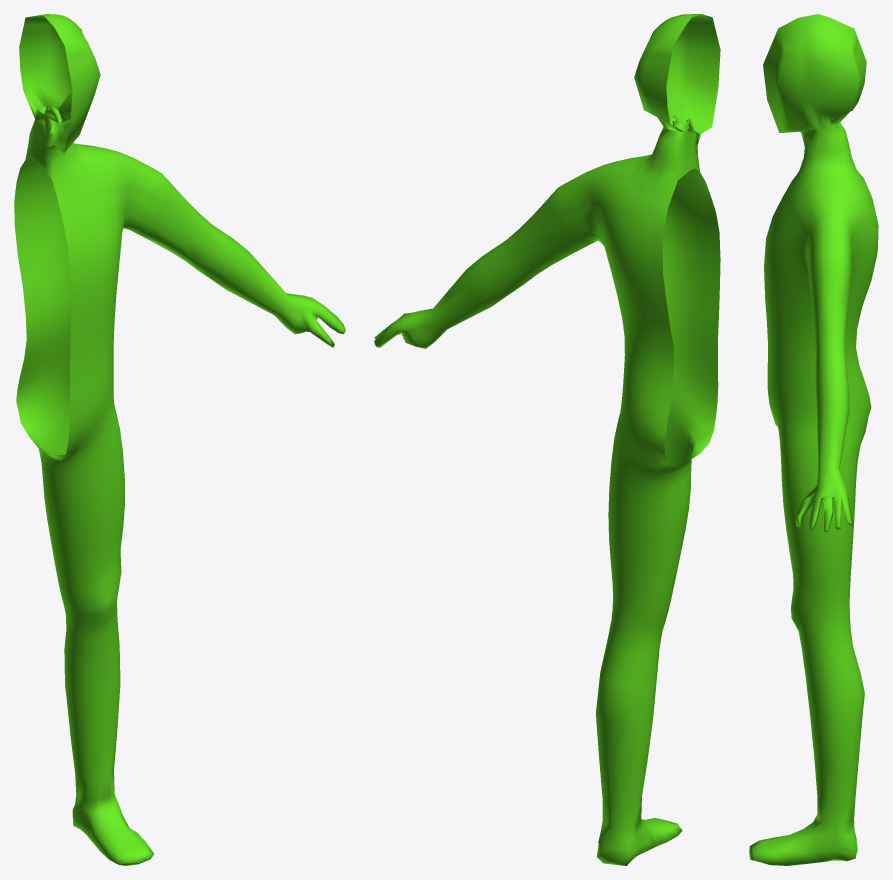
The model's file is BASEmodel.gltf.
The picture shows the model from 3 angles, left to right: view 1: azimuth 30°, elevation 25°; view 2: azimuth 150°, elevation 25°; view 3: azimuth 270°, elevation 25°; orthographic projection. The views are drawn at different scales.
Parts seen in each view (by area): view 1: Cube; view 2: Cube; view 3: Cube.
Part boxes in pixels (x1=…): Cube: x1=14, y1=14, x2=345, y2=865; Cube: x1=374, y1=14, x2=720, y2=865; Cube: x1=749, y1=14, x2=878, y2=865.
Bounding box in the file's own units: 1.83 × 4.83 × 0.6923.
